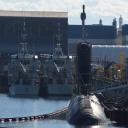submarine: (67, 43, 110, 125)
